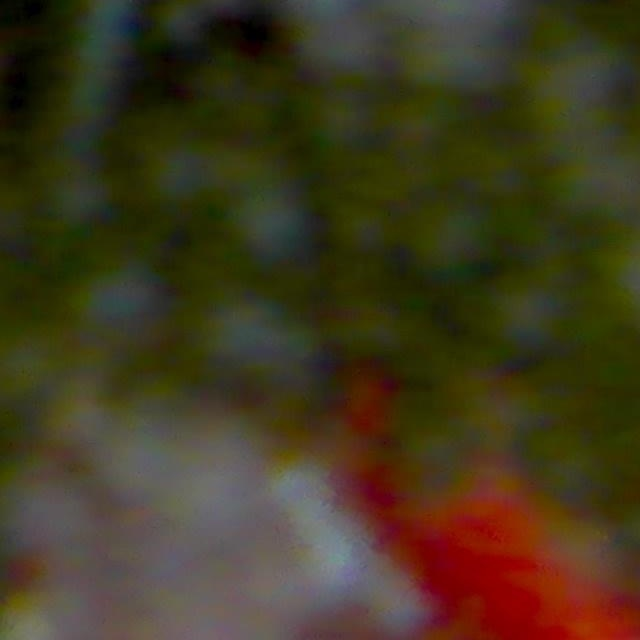SeaGrape: (71, 258, 163, 343), (204, 296, 290, 378), (230, 185, 310, 263)
